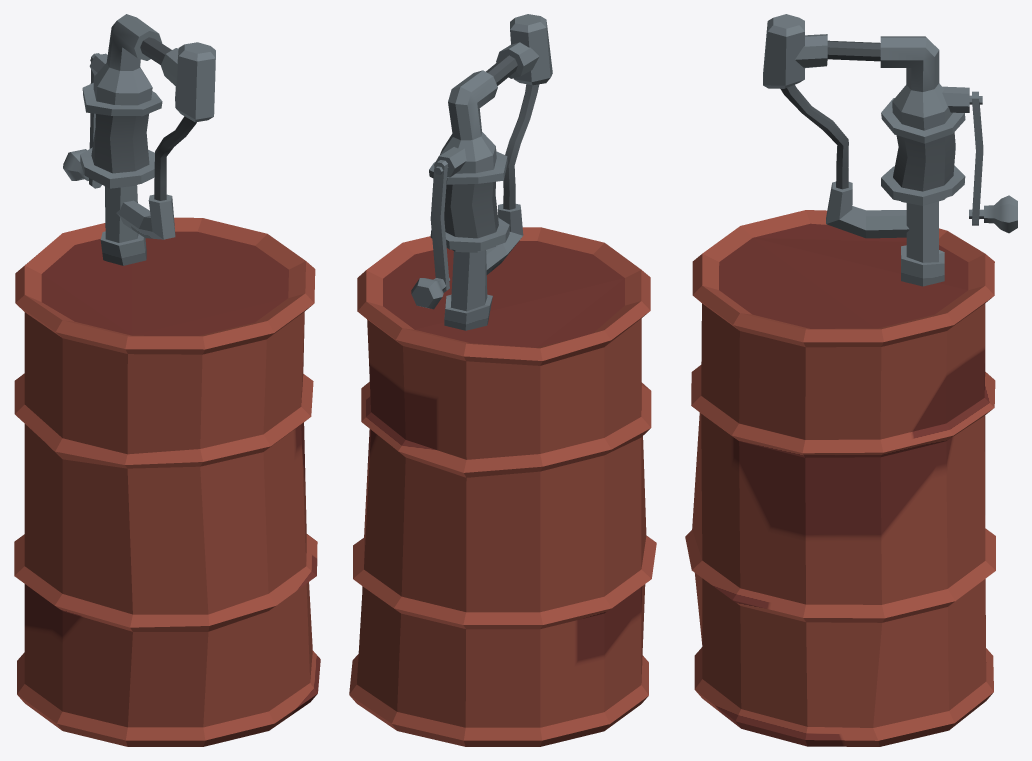
Rendered from SM_Prop_Barrel_Pump_01.fbx.
3 views of the same model, side by side, from view 1: azimuth 30°, elevation 25°; view 2: azimuth 150°, elevation 25°; view 3: azimuth 270°, elevation 25° (orthographic). The views are drawn at different scales.
Parts seen in each view (by area): view 1: SM_Prop_Barrel_Pump_01; view 2: SM_Prop_Barrel_Pump_01; view 3: SM_Prop_Barrel_Pump_01.
Boxes of the visible parts, x1,y1,x2,y2 form: SM_Prop_Barrel_Pump_01: (14,14,320,746); SM_Prop_Barrel_Pump_01: (349,14,656,746); SM_Prop_Barrel_Pump_01: (685,14,1017,746).
Bounding box in the file's own units: 71.79 × 170 × 77.02.
